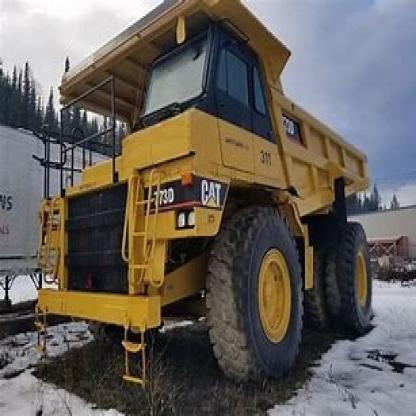dump_truck: (34, 2, 383, 389)
